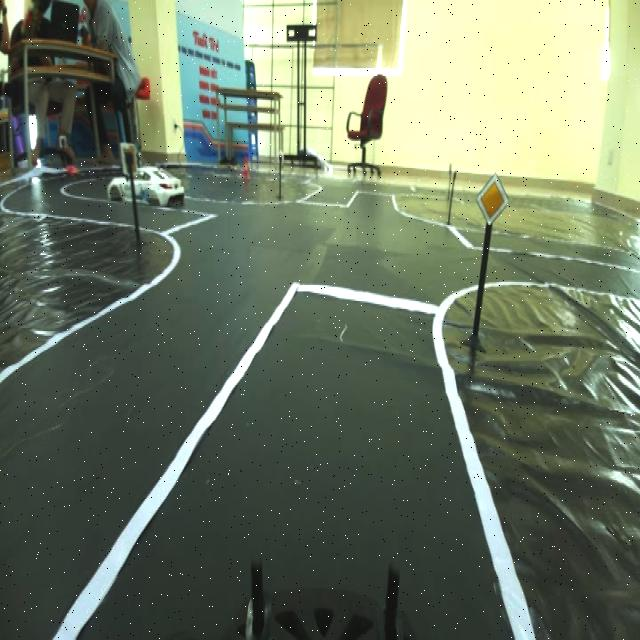priority: (470, 168, 510, 239)
